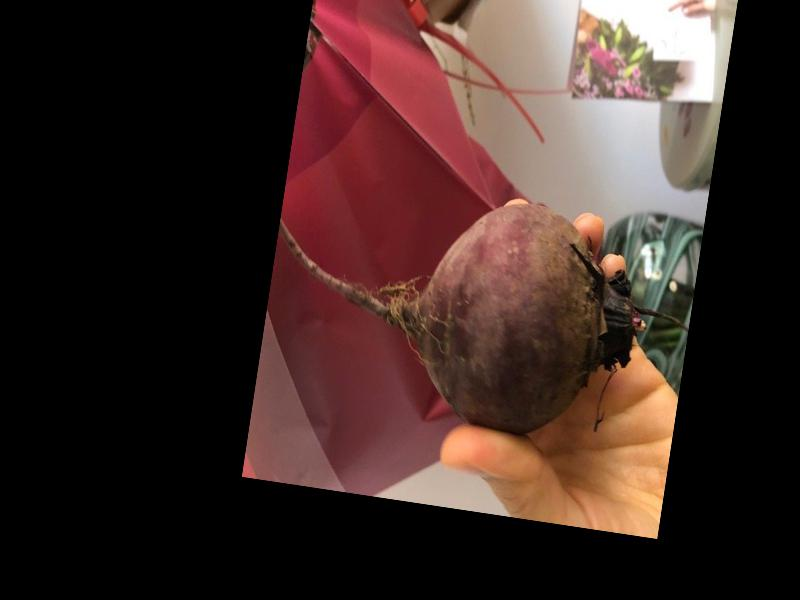Beet: (255, 166, 700, 456)
